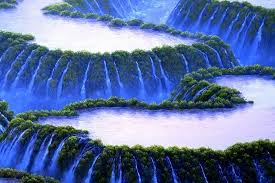mountain: (5, 2, 271, 176)
waterfall: (4, 5, 237, 89), (13, 97, 246, 181)
